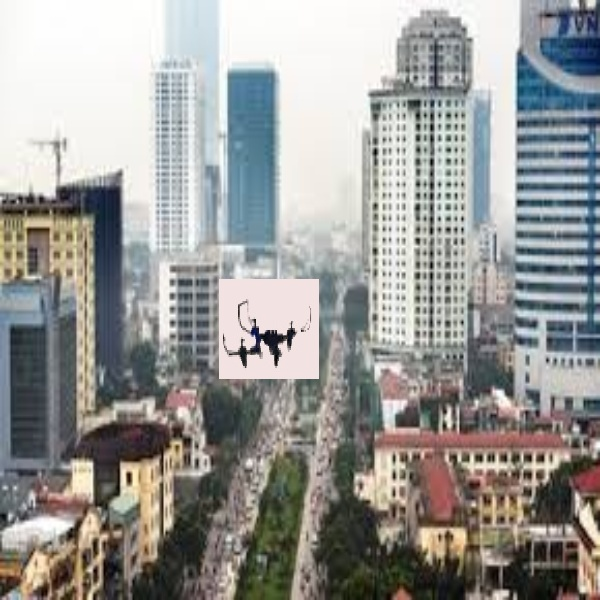drone: (221, 281, 319, 379)
